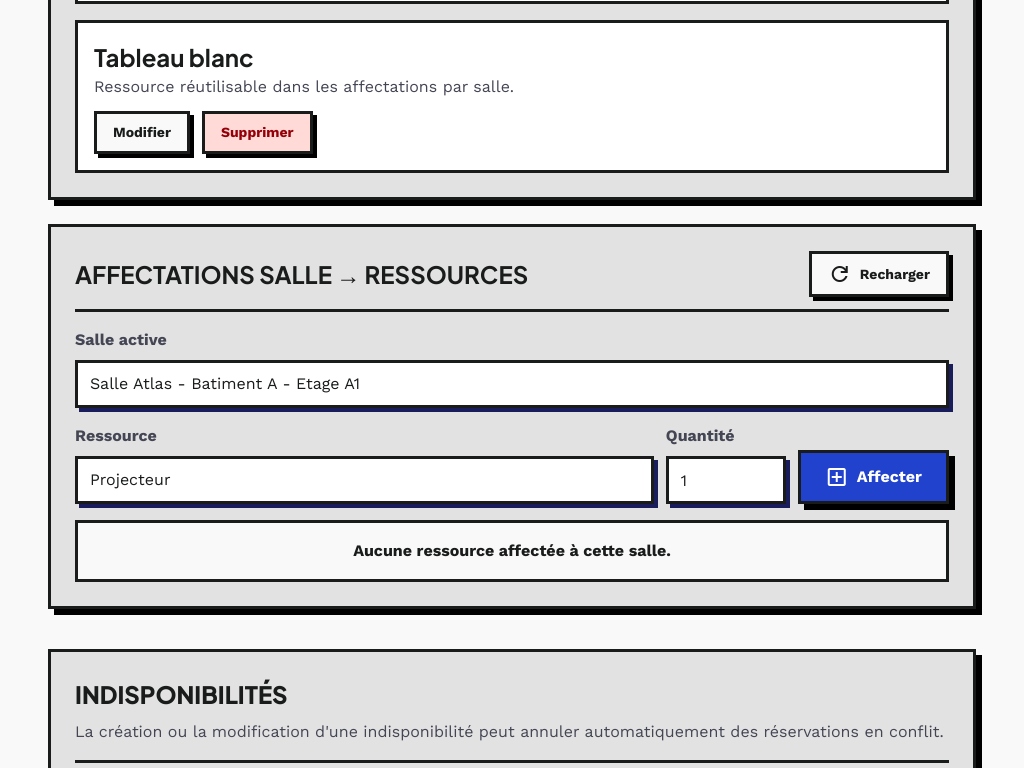
Test case: Admin › affecte une ressource a une salle via PUT /rooms/{roomId}/resources/{resourceId}
(page scrolled)
Expected: the text "Chargement des affectations..." is not shown
Select "Salle Atlas - Batiment A - Etage A1" in the dropdown below "Salle active" at (512, 384), box x1=75 y1=360 x2=949 y2=408
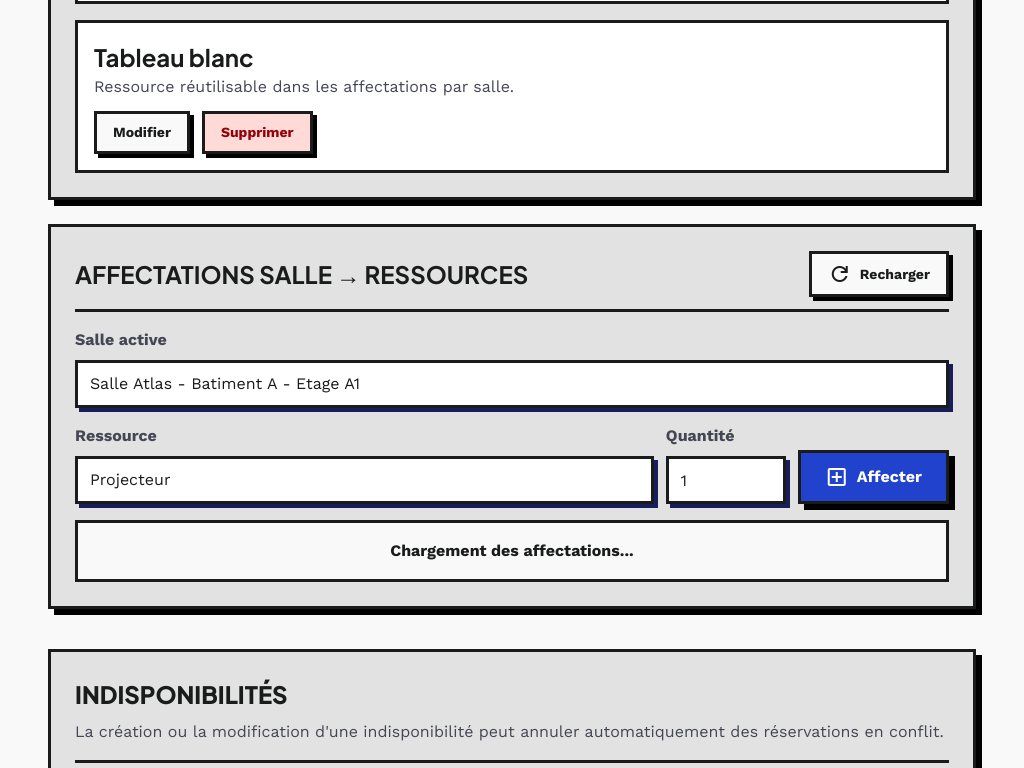
Select "Tableau blanc" in the dropdown below "Quantité" at (364, 480), box x1=75 y1=456 x2=654 y2=504
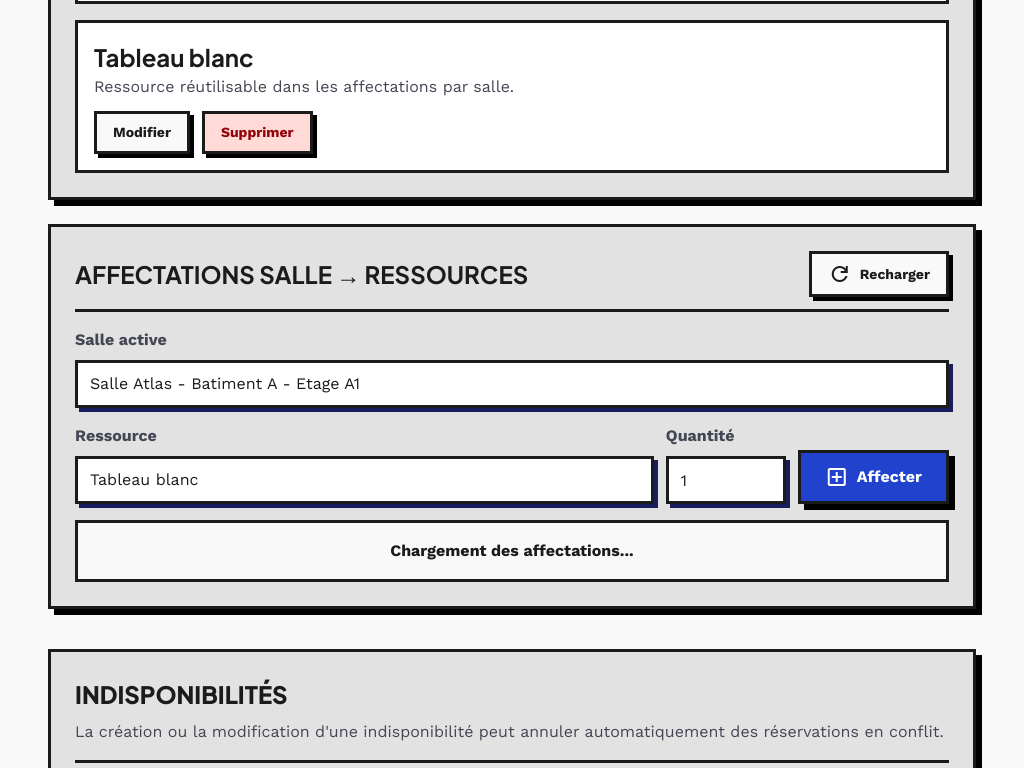
Replace the text in the number field with "3" at (726, 480), box x1=666 y1=456 x2=786 y2=504
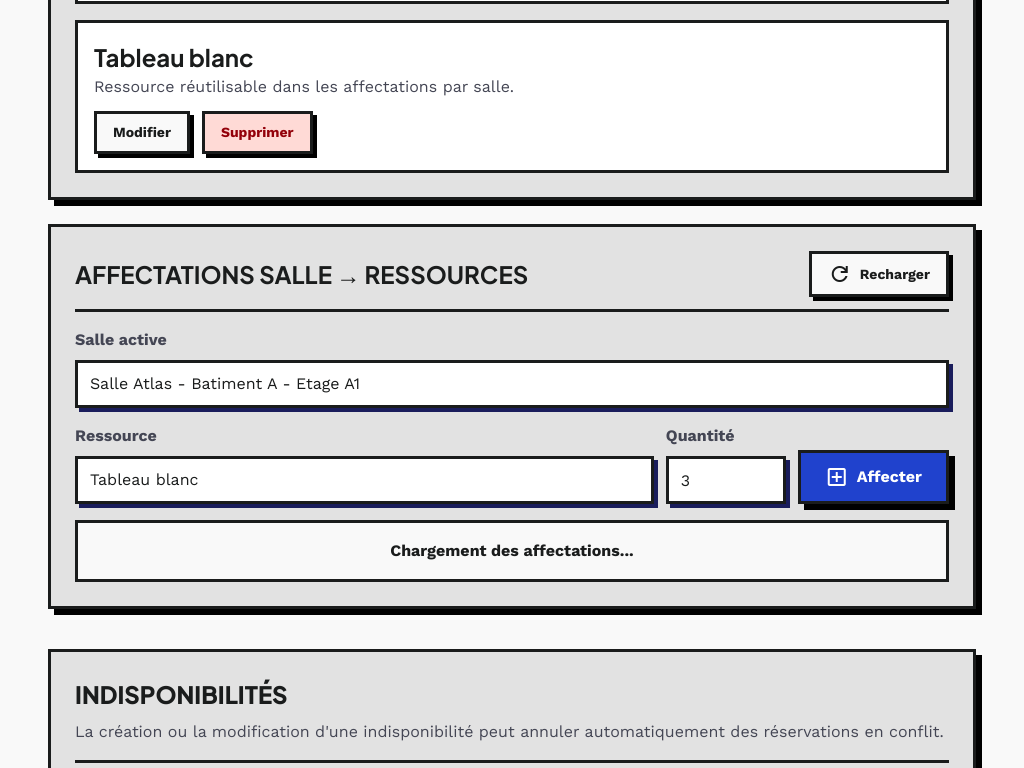
Click the button "Affecter" at (873, 477), box x1=798 y1=450 x2=949 y2=504
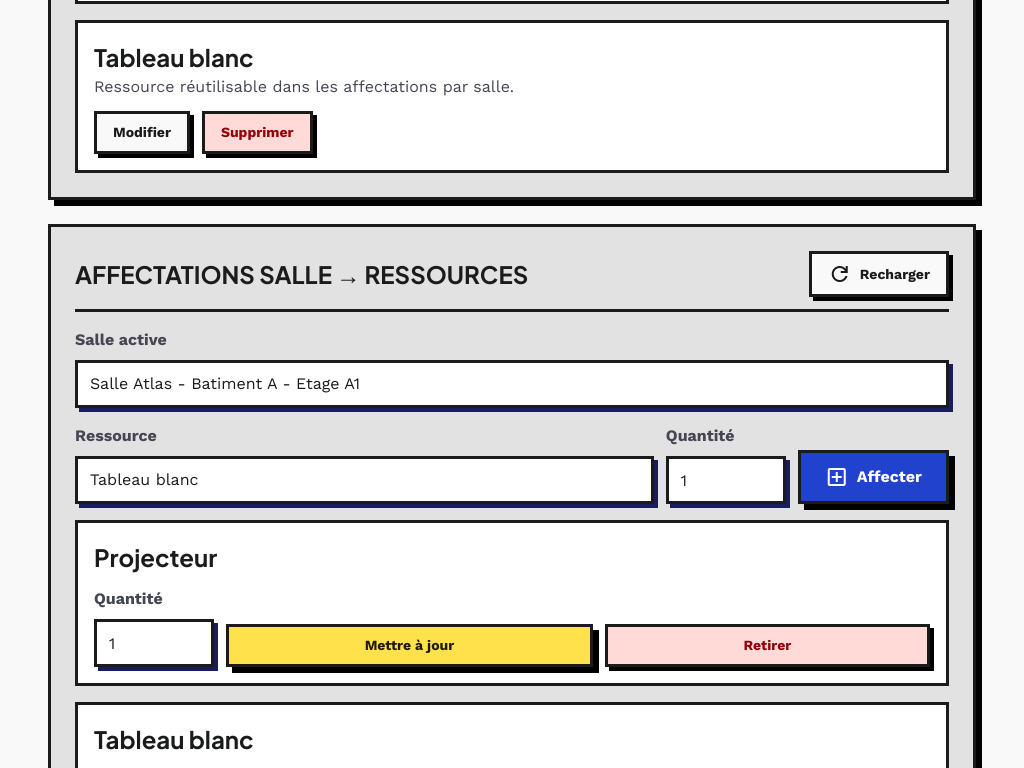
Expected: the 1st heading "Tableau blanc" is shown, x1=94 y1=42 x2=254 y2=72
Now the 1st number field holds "1", box x1=666 y1=456 x2=786 y2=504
